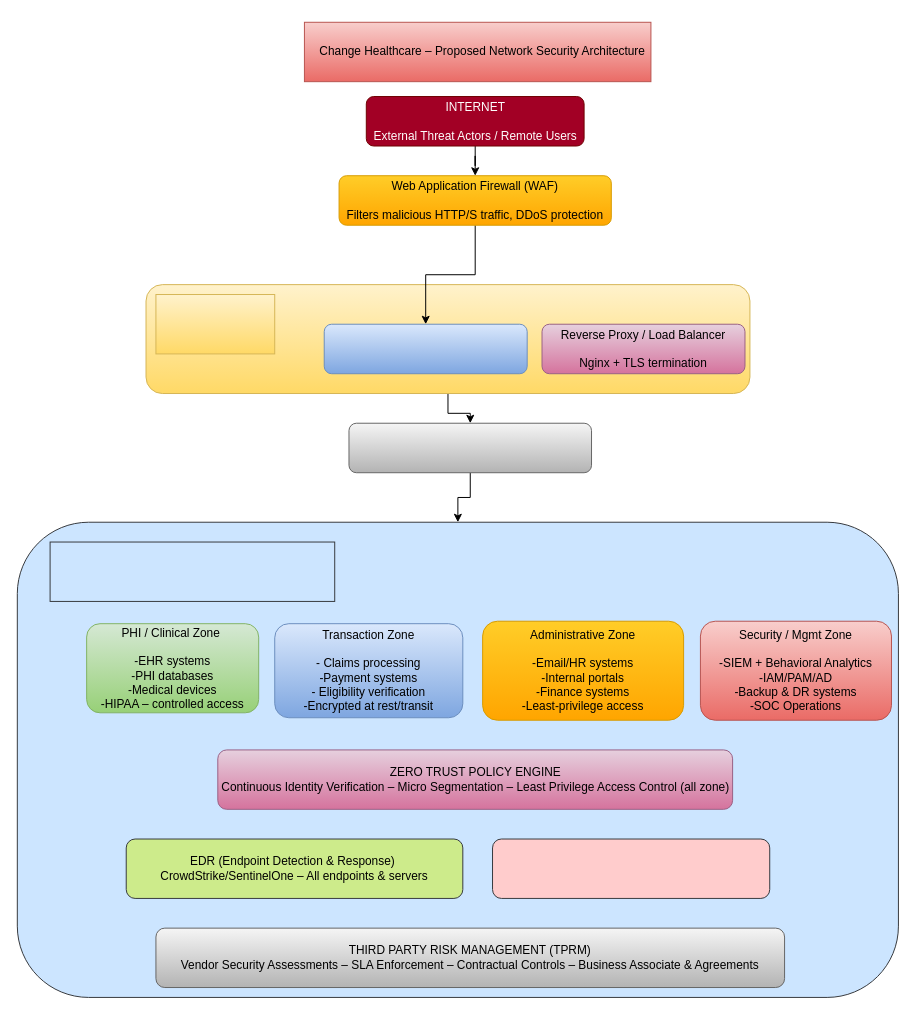
Some shapes in this 916 by 1015 pixel diagram are drawn without their labels. Here are the shapes that lost their labels. From the top down, the centre of each, then its label:
(215,324): DMZ ZONE
(425,348): MFA Gateway Citrix + Enforced MFA (TOTP/Push)
(470,447): Next-Gen Firewall (NGFW)) Deep Packet Inspection – IPS – App Control
(192,571): INTERNAL NETWORK - SEGMENTED ZONES
(631,868): DLP (Data Loss Prevention) Monitors & blocks unauthorised PHI/PII exfiltration
